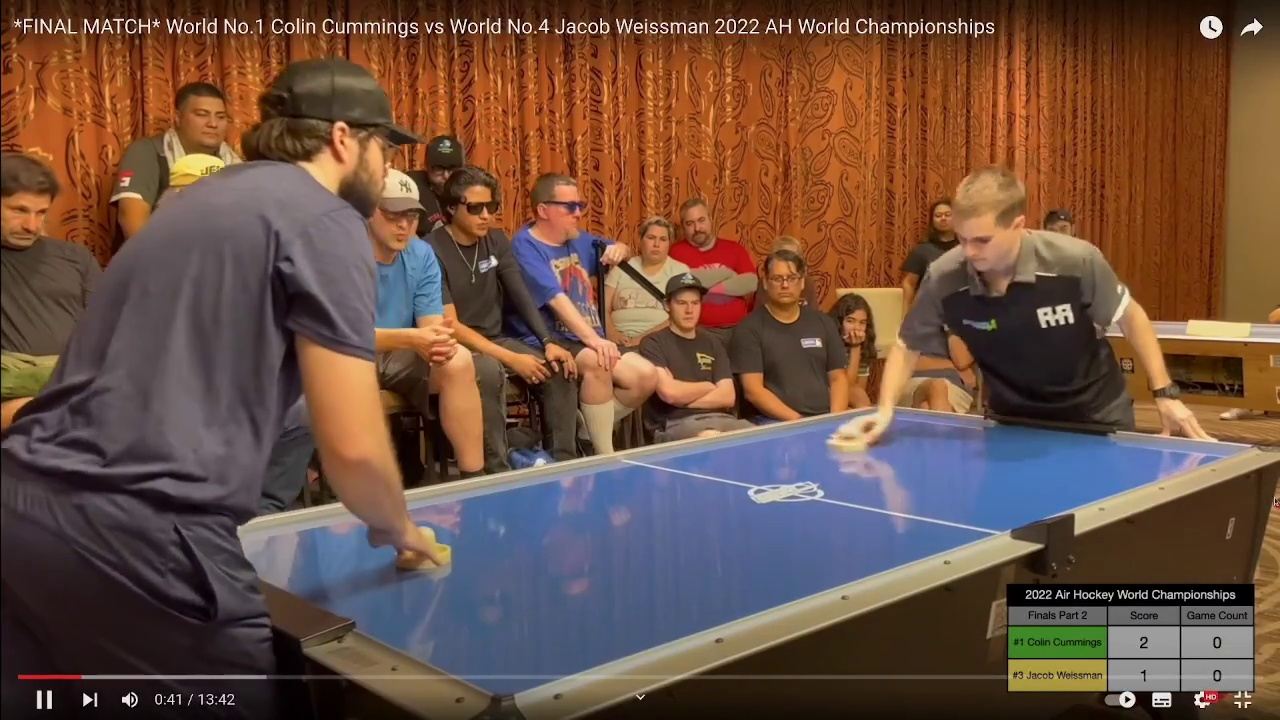player: (387, 524, 454, 573), (830, 423, 875, 455)
table: (185, 406, 1280, 702)
